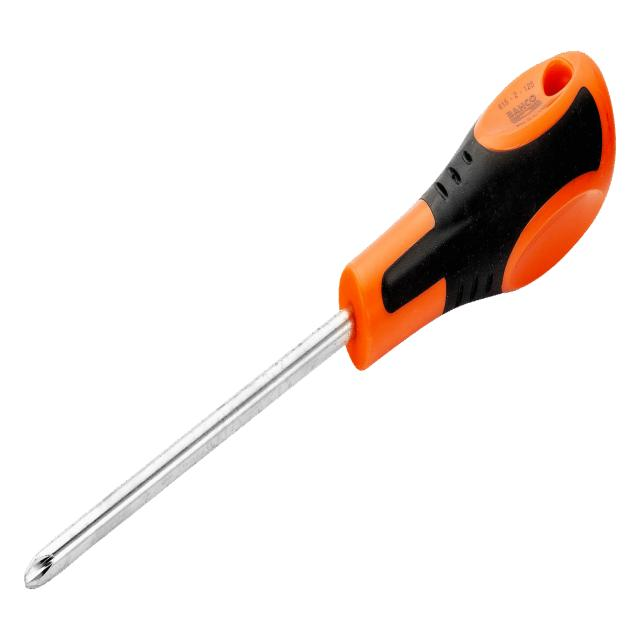Screwdriver: (24, 50, 617, 588)
